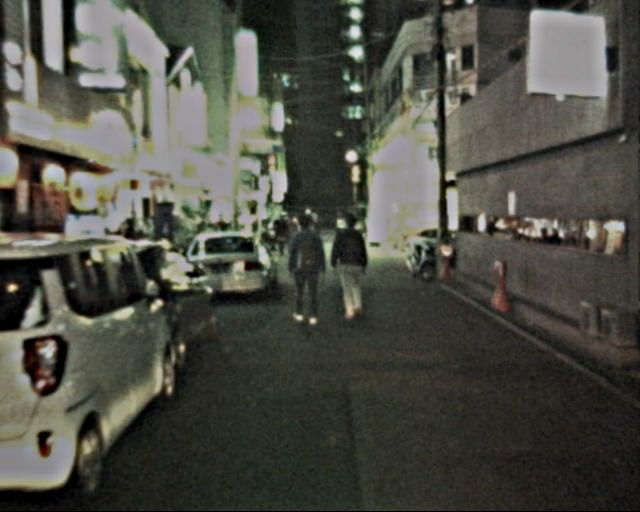person: (285, 217, 330, 324), (330, 216, 374, 322)
